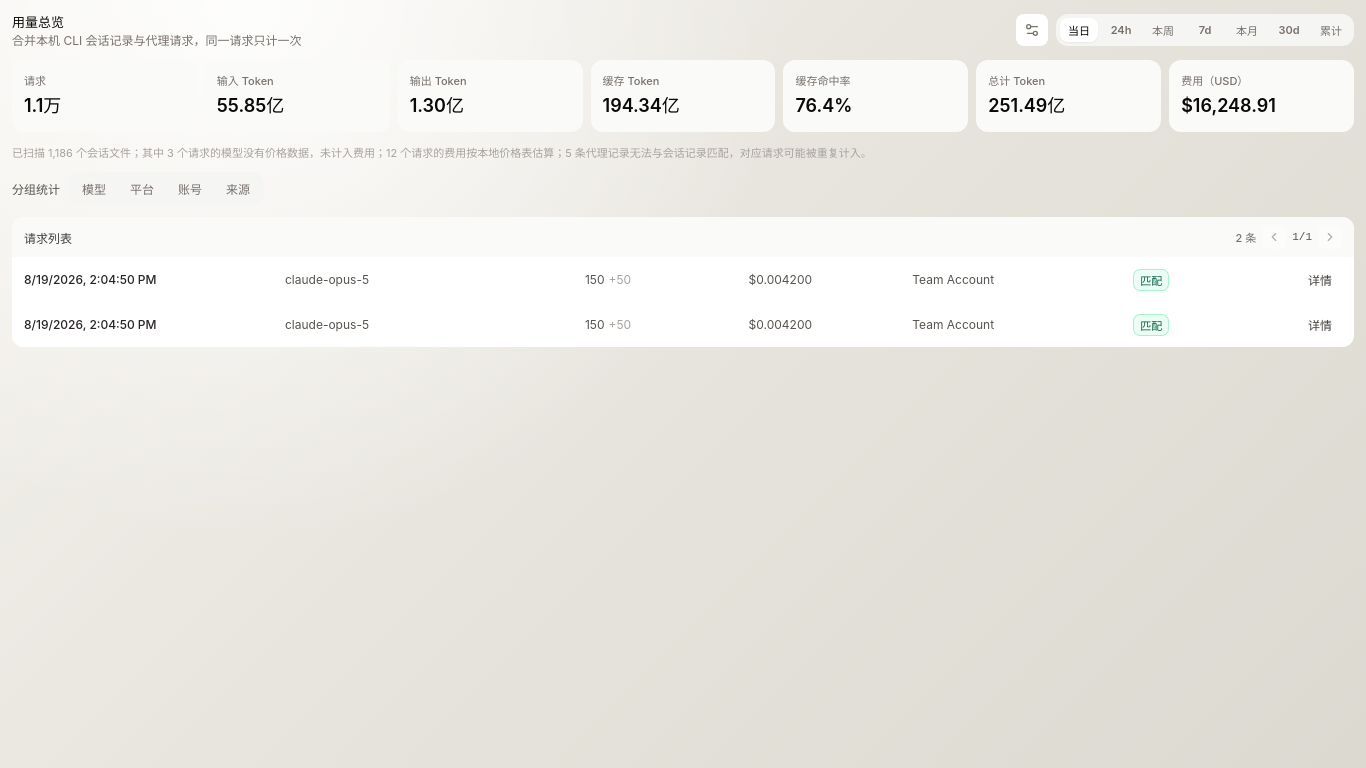
UsageOverviewPanel › keeps only one detail panel open at a time
Click the button with aria-label "查看请求 a 详情".
click(1320, 280)  # box [1298,267,1342,292]
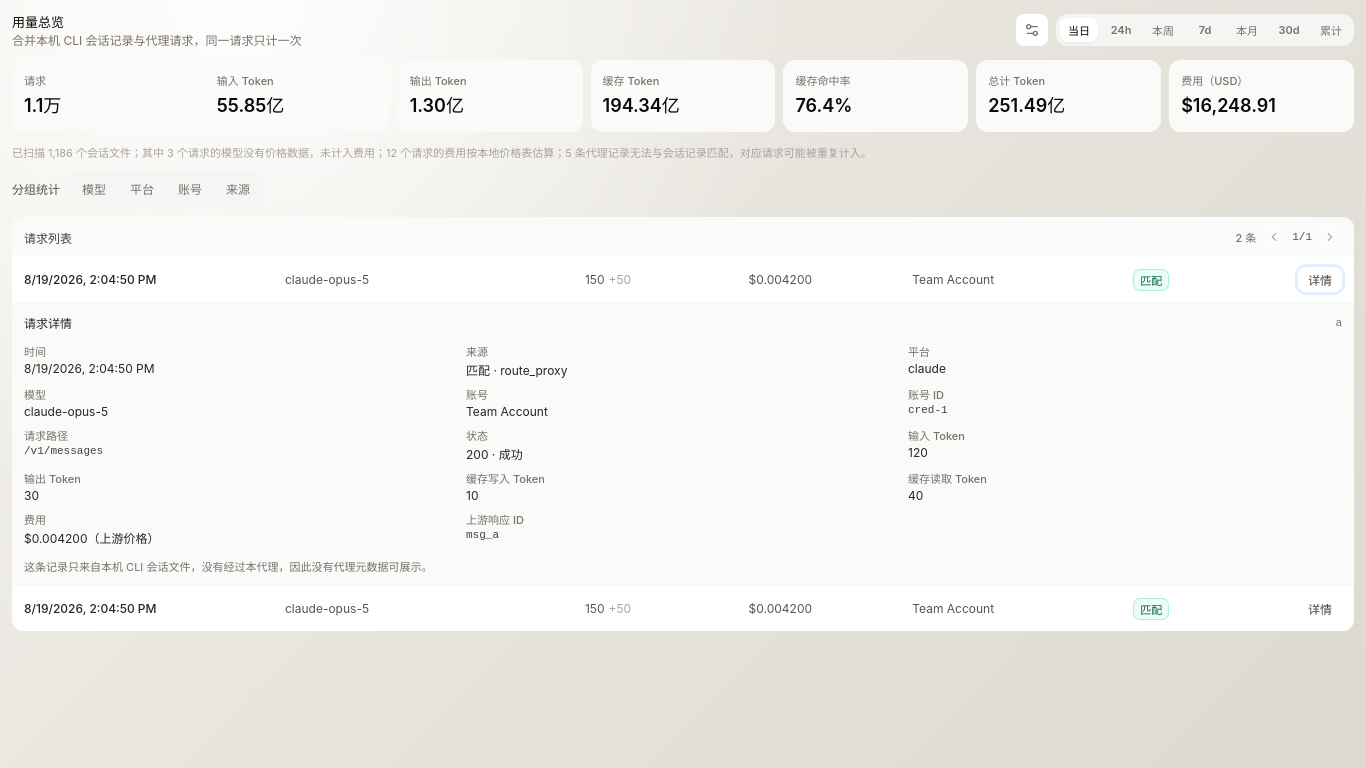
Click the button with aria-label "查看请求 b 详情".
click(1320, 608)  # box [1298,596,1342,621]
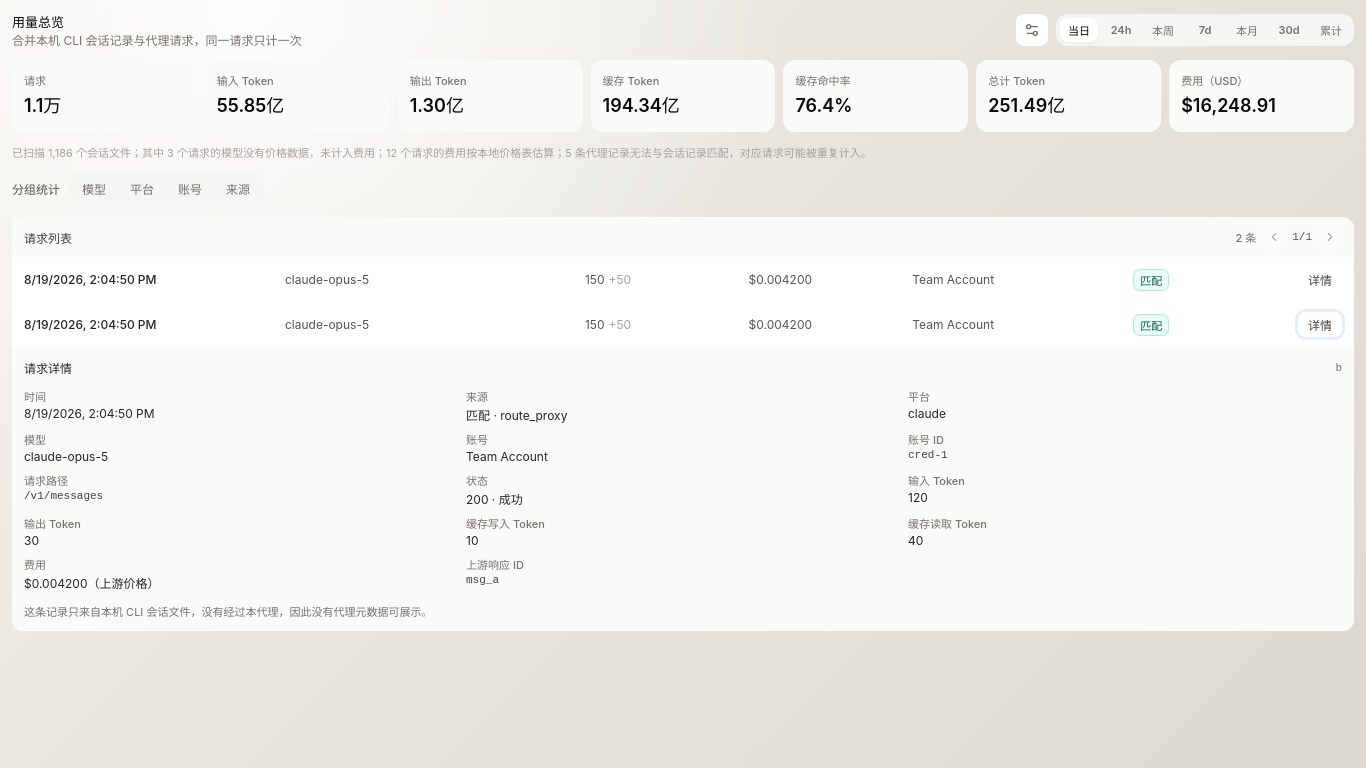
Expected: the element named "请求 b 详情" is shown, [12,347,1354,631]
